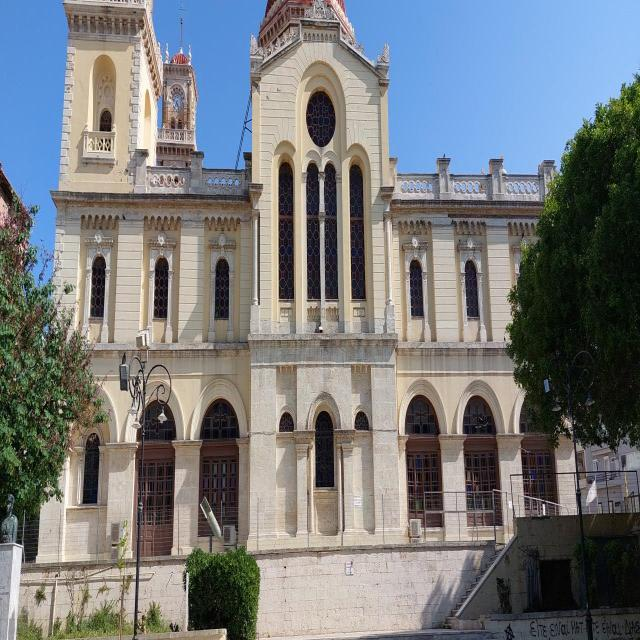Agios Minas: (39, 1, 580, 547)
